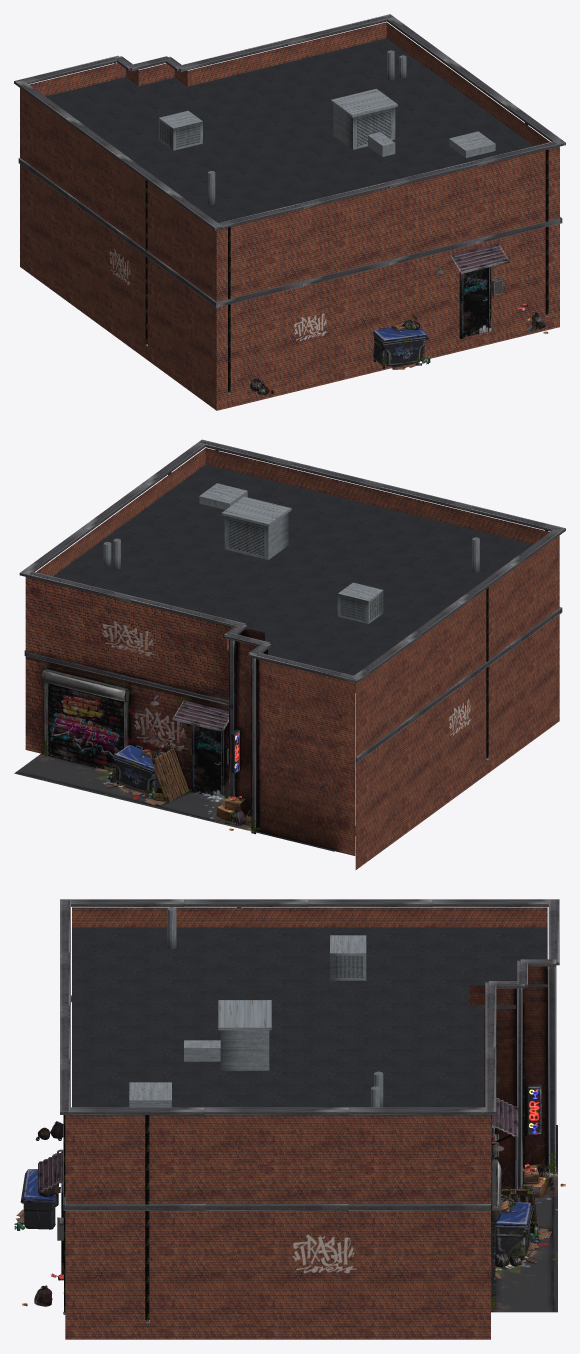
The model's file is Bar.glb.
3 views of the same model, one above another, from view 1: azimuth 30°, elevation 25°; view 2: azimuth 150°, elevation 25°; view 3: azimuth 270°, elevation 25° (orthographic). The views are drawn at different scales.
Visible parts, largest first — view 1: Bar; view 2: Bar, BarDoor; view 3: Bar.
Part boxes in pixels (box(x1,y1,x2,y2)): Bar: box(14, 14, 565, 410); Bar: box(14, 439, 565, 869); BarDoor: box(195, 725, 221, 796); Bar: box(14, 899, 565, 1339).
Size of the model in its own units: 11.39 by 6.27 by 12.49.
7 materials, 7 textured.
